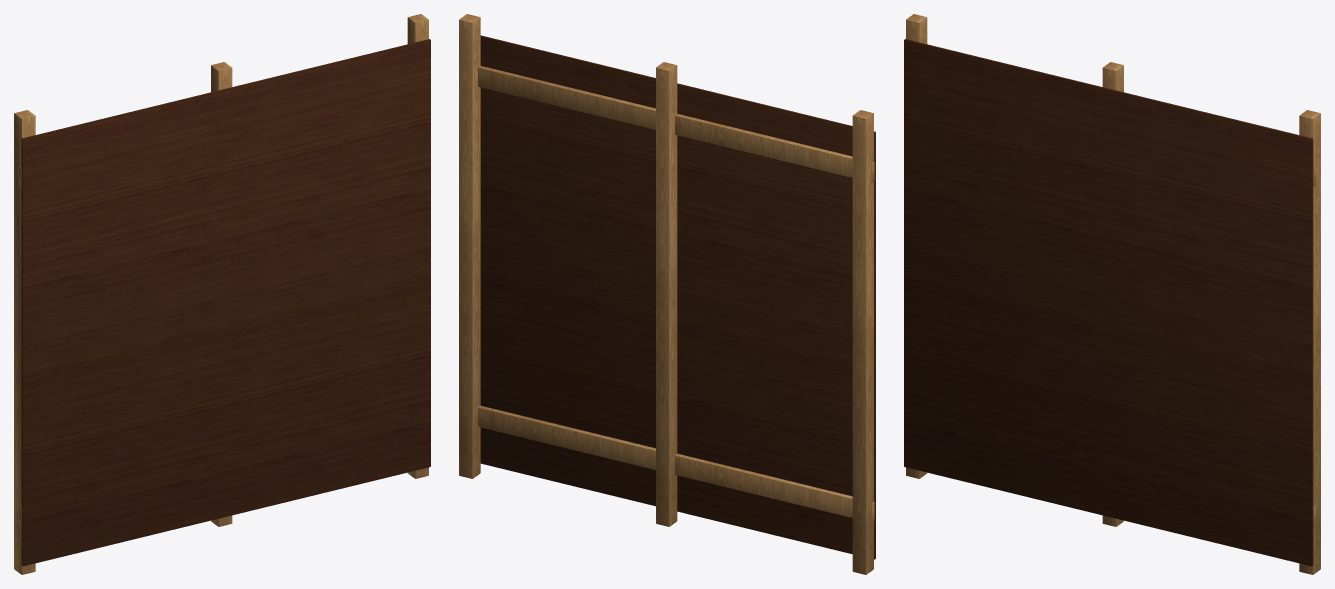
File: SER-TAP-001.glb
3 views of the same model, side by side, from view 1: azimuth 30°, elevation 25°; view 2: azimuth 150°, elevation 25°; view 3: azimuth 330°, elevation 25° (orthographic).
Parts seen in each view (by area): view 1: SER-TAP-001_chapa, SER-TAP-001_pontalete0, SER-TAP-001_pontalete1, SER-TAP-001_pontalete2; view 2: SER-TAP-001_chapa, SER-TAP-001_pontalete0, SER-TAP-001_pontalete2, SER-TAP-001_pontalete1, SER-TAP-001_sarrafo0, SER-TAP-001_sarrafo1; view 3: SER-TAP-001_chapa, SER-TAP-001_pontalete2, SER-TAP-001_pontalete0, SER-TAP-001_pontalete1.
Part boxes in pixels (x1,y1,x2,y2): SER-TAP-001_chapa: (21,39,430,566); SER-TAP-001_pontalete0: (14,110,35,574); SER-TAP-001_pontalete1: (211,62,232,526); SER-TAP-001_pontalete2: (407,14,428,478); SER-TAP-001_chapa: (480,35,875,559); SER-TAP-001_pontalete0: (852,110,873,574); SER-TAP-001_pontalete2: (459,14,480,478); SER-TAP-001_pontalete1: (656,62,677,526); SER-TAP-001_sarrafo0: (478,405,874,522); SER-TAP-001_sarrafo1: (478,65,874,182); SER-TAP-001_chapa: (904,39,1313,566); SER-TAP-001_pontalete2: (1299,110,1320,574); SER-TAP-001_pontalete0: (906,14,927,478); SER-TAP-001_pontalete1: (1102,62,1123,526).
Size of the model in its own units: 2.2 by 2.35 by 0.087.
2 materials, 2 textured.
